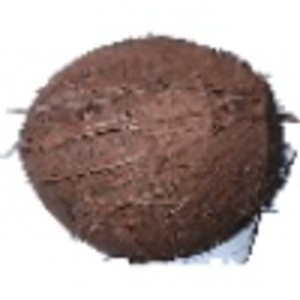coco: (10, 36, 298, 266)
